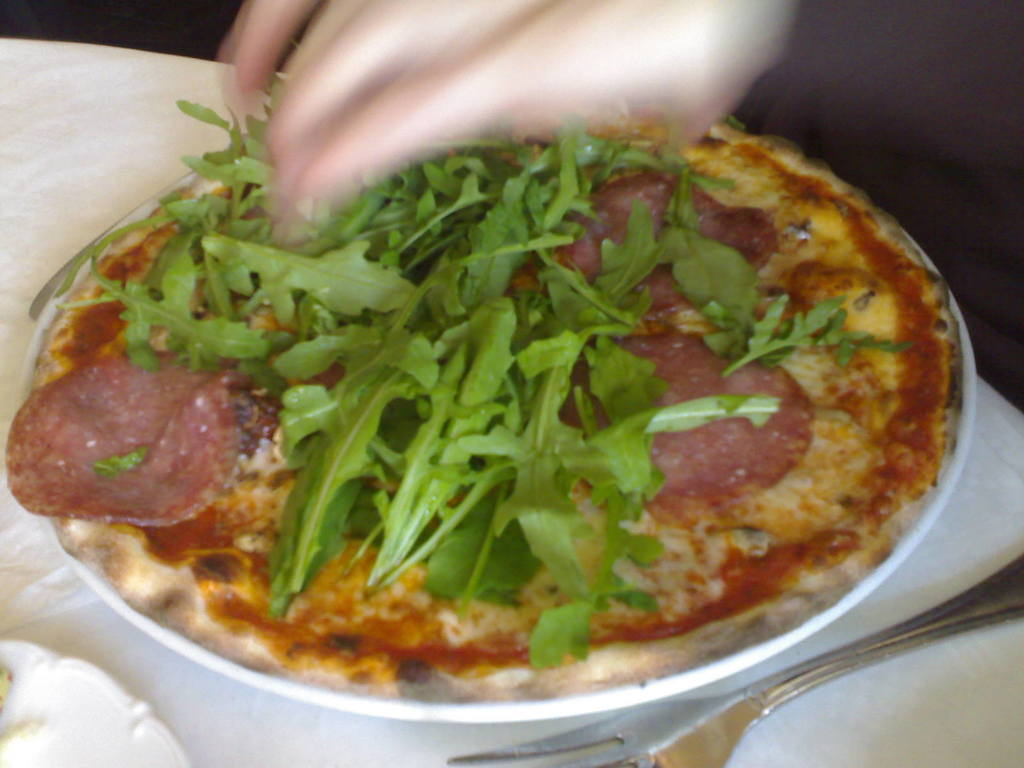Pizza: (3, 117, 964, 701)
